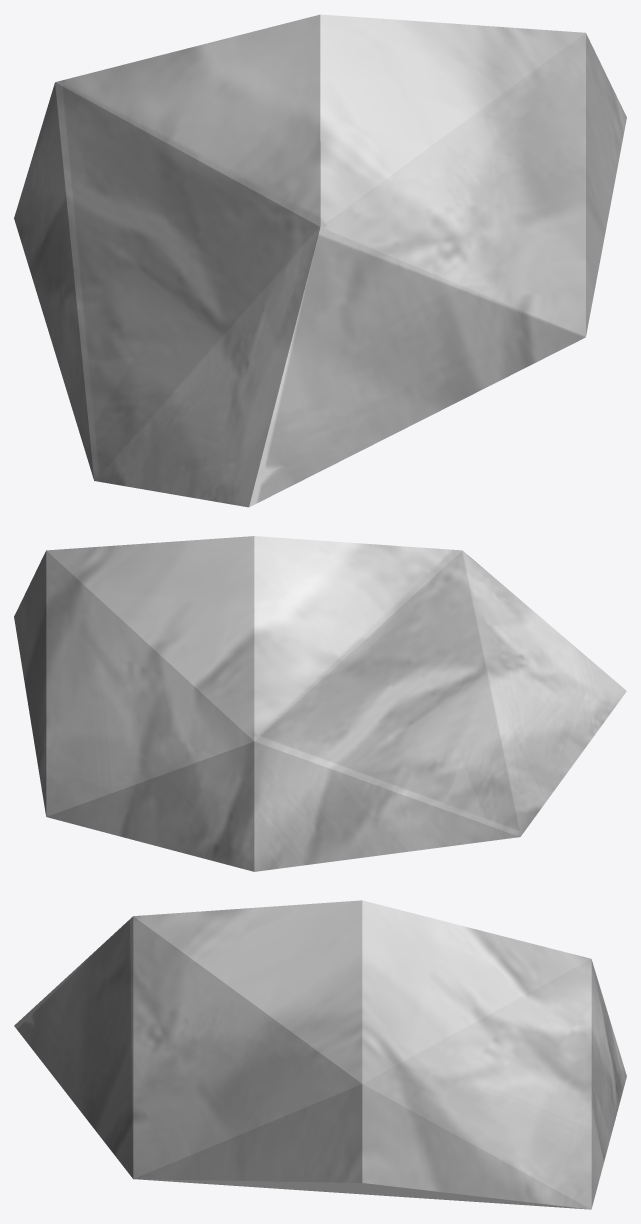
The model's file is rock4.FBX.
3 renders of one model, top to bottom at view 1: azimuth 30°, elevation 25°; view 2: azimuth 150°, elevation 25°; view 3: azimuth 270°, elevation 25°, orthographic. The views are drawn at different scales.
Parts seen in each view (by area): view 1: GeoSphere001; view 2: GeoSphere001; view 3: GeoSphere001.
Boxes of the visible parts, x1=… form: GeoSphere001: x1=14, y1=14, x2=626, y2=507; GeoSphere001: x1=14, y1=536, x2=626, y2=871; GeoSphere001: x1=14, y1=900, x2=626, y2=1209.
Size of the model in its own units: 50.61 by 29.23 by 52.81.
1 material, 1 textured.
